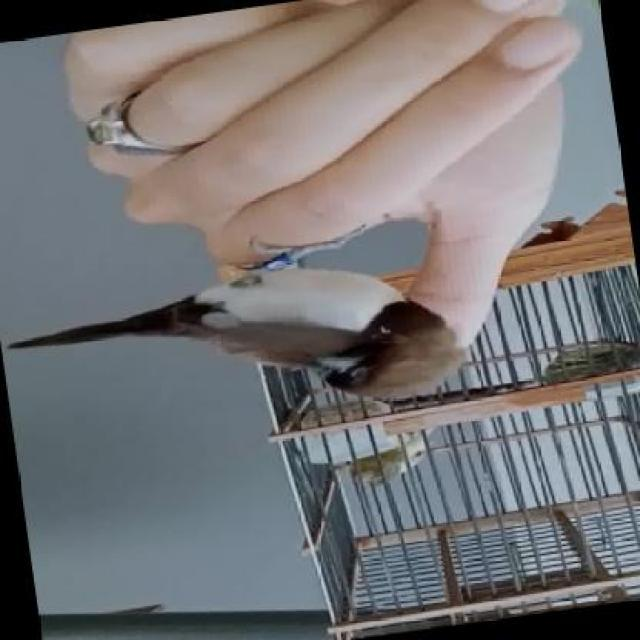Bird: (12, 235, 507, 437)
